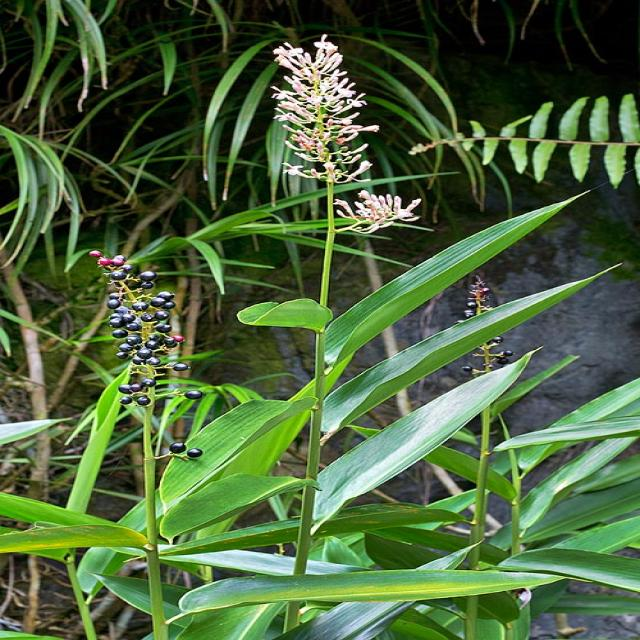Aquatic-Ginger: (269, 33, 422, 235), (88, 249, 204, 458)
